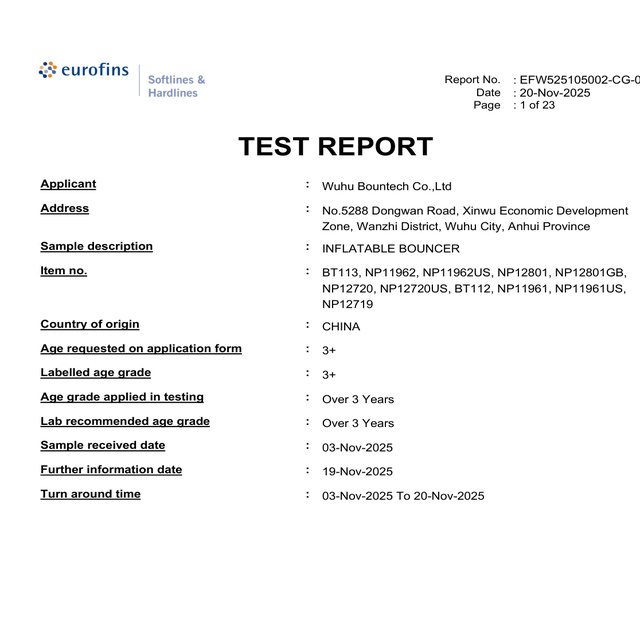eurofins: (38, 58, 134, 85)
